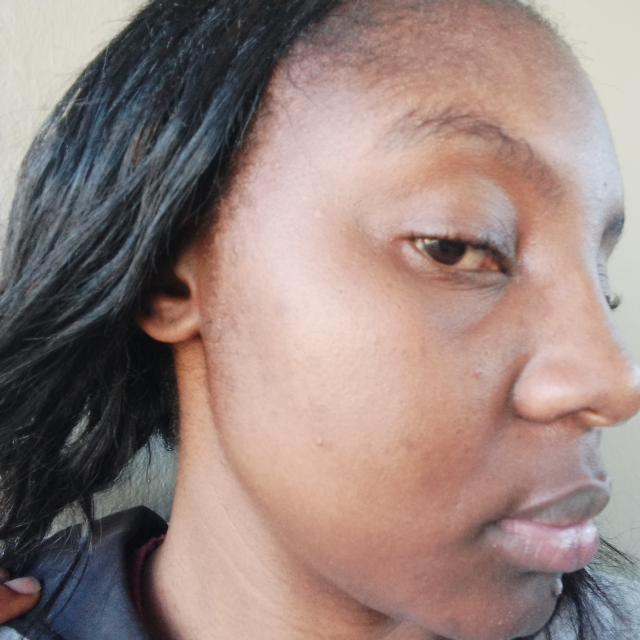Acne: (389, 437, 419, 460), (308, 433, 330, 453), (468, 363, 489, 383), (414, 339, 433, 361), (367, 332, 380, 349)
